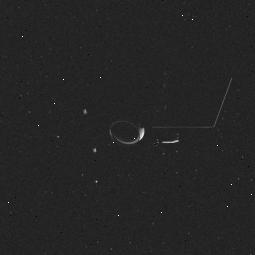proba_3_csc: (88, 59, 238, 158)
